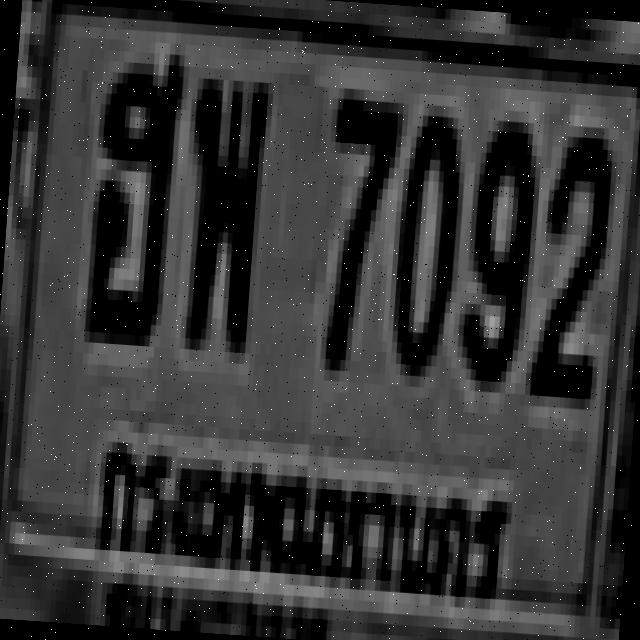0: (384, 103, 458, 367)
2: (525, 118, 609, 393)
39PhorPan: (175, 66, 269, 342)
53HorNokHook: (80, 49, 180, 336)
7: (314, 88, 398, 362)
9: (455, 108, 534, 382)
Bangkok: (78, 396, 522, 623)
